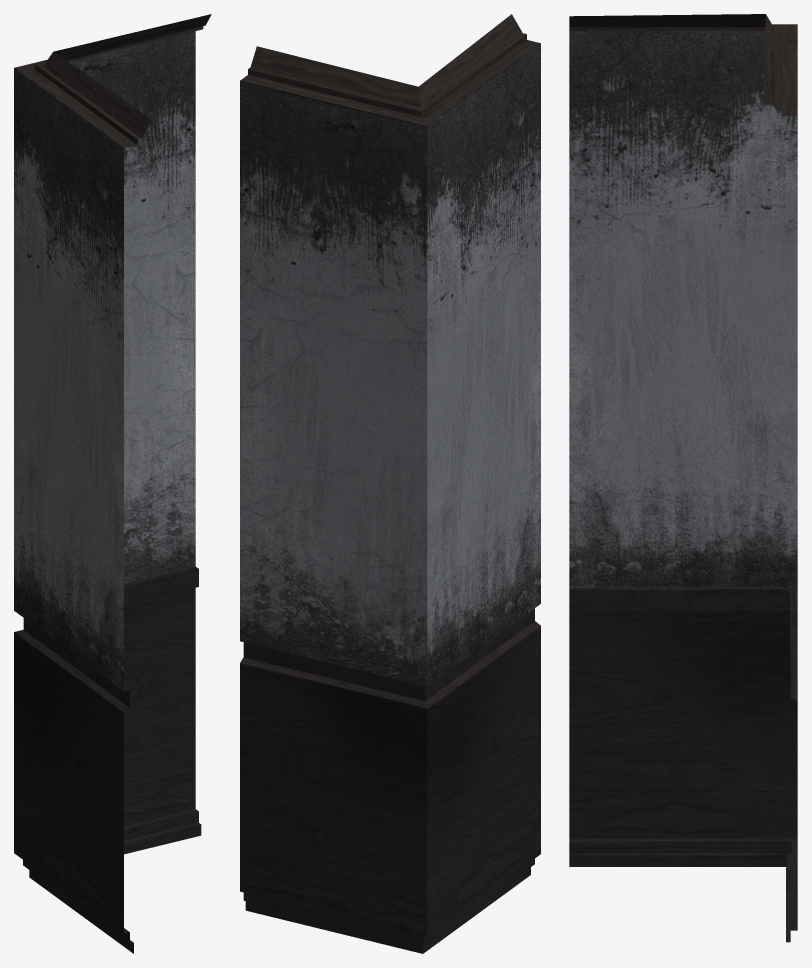
File: FPH_WallAngleOne.fbx
3 views of the same model, side by side, from view 1: azimuth 30°, elevation 25°; view 2: azimuth 150°, elevation 25°; view 3: azimuth 270°, elevation 25° (orthographic). The views are drawn at different scales.
Visible parts, largest first — view 1: FPH_WallAngleOne; view 2: FPH_WallAngleOne; view 3: FPH_WallAngleOne.
Boxes of the visible parts, <box> form: FPH_WallAngleOne: <box>14,14,211,953</box>; FPH_WallAngleOne: <box>240,14,540,953</box>; FPH_WallAngleOne: <box>569,14,797,942</box>.
Bounding box in the file's own units: 3.04 × 13.3 × 3.2.
